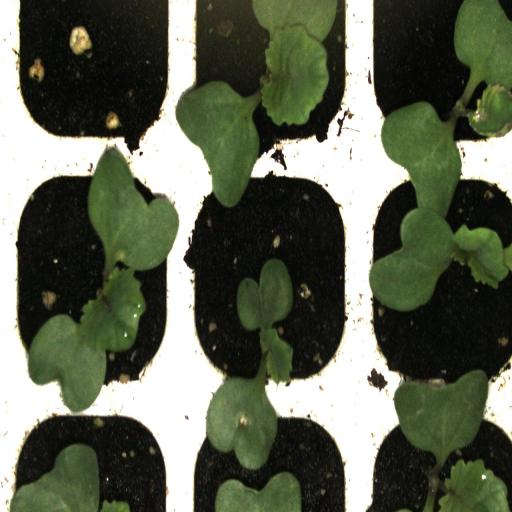Folha: (206, 259, 293, 472), (395, 369, 489, 464), (8, 443, 130, 512), (423, 459, 512, 512), (214, 471, 302, 512)
Germinacao: (182, 166, 358, 406), (10, 160, 180, 404), (363, 159, 512, 405), (188, 0, 362, 158), (366, 0, 512, 156)
